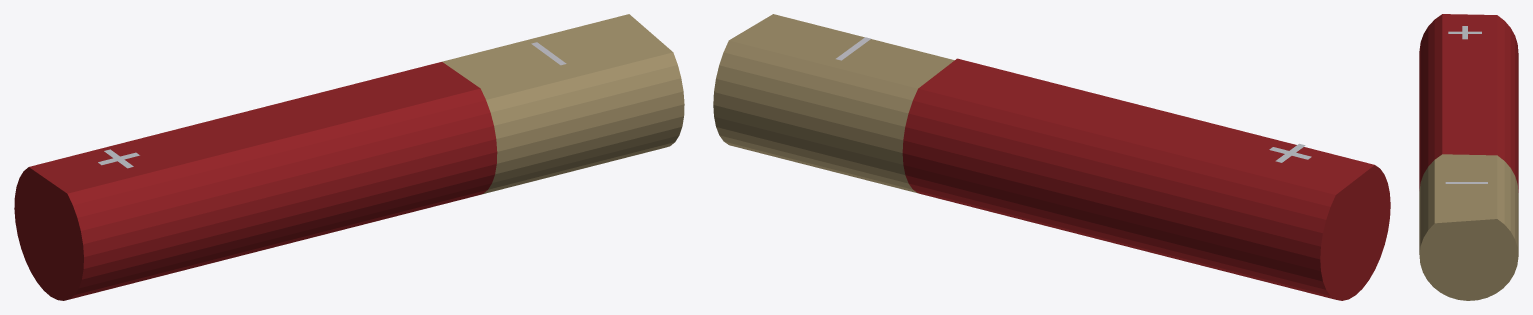
File: battery-cell.glb
3 views of the same model, side by side, from view 1: azimuth 30°, elevation 25°; view 2: azimuth 150°, elevation 25°; view 3: azimuth 270°, elevation 25° (orthographic). The views are drawn at different scales.
Parts seen in each view (by area): view 1: battery 2; view 2: battery 2; view 3: battery 2.
Boxes of the visible parts, x1,y1,x2,y2 form: battery 2: [14, 14, 684, 300]; battery 2: [713, 14, 1390, 300]; battery 2: [1419, 14, 1518, 300].
Size of the model in its own units: 6.92 by 1.35 by 1.39.
